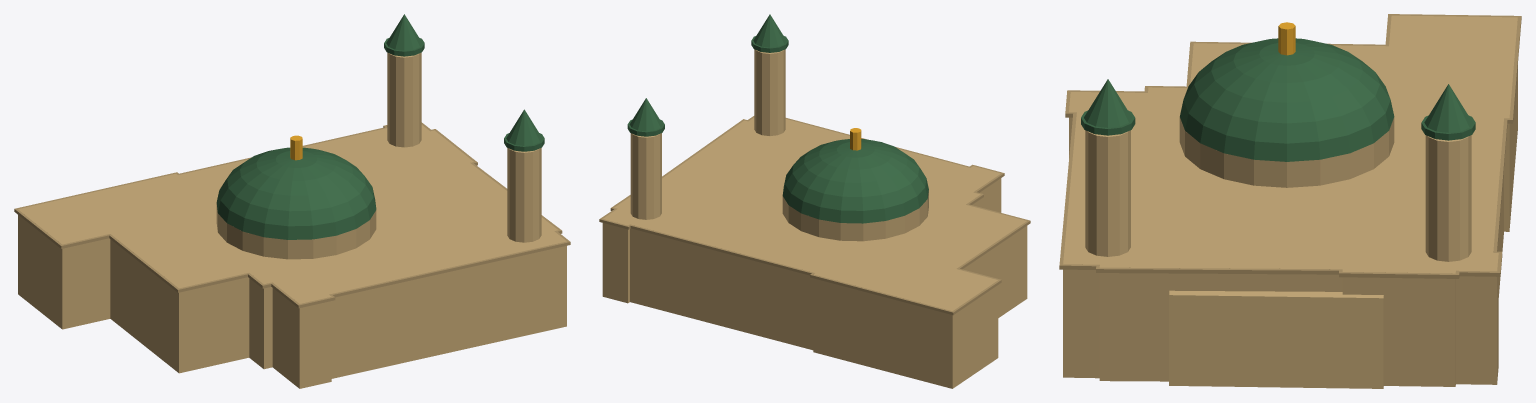
The model's file is altria-theater.glb.
3 views of the same model, side by side, from view 1: azimuth 30°, elevation 25°; view 2: azimuth 150°, elevation 25°; view 3: azimuth 270°, elevation 25° (orthographic). The views are drawn at different scales.
Visible parts, largest first — view 1: body, altria-theater_3, altria-theater_1, altria-theater_2, altria-theater_8, altria-theater_5, altria-theater_7, altria-theater_10; view 2: body, altria-theater_3, altria-theater_1, altria-theater_2, altria-theater_8, altria-theater_5, altria-theater_7, altria-theater_10; view 3: body, altria-theater_11, altria-theater_3, altria-theater_1, altria-theater_2, altria-theater_8, altria-theater_5, altria-theater_10, altria-theater_7, altria-theater_4, altria-theater_9, altria-theater_6.
Part boxes in pixels (bbox=[...]): body: bbox=[18, 125, 566, 388]; altria-theater_3: bbox=[216, 147, 376, 239]; altria-theater_1: bbox=[14, 122, 570, 308]; altria-theater_2: bbox=[216, 205, 376, 259]; altria-theater_8: bbox=[387, 52, 421, 147]; altria-theater_5: bbox=[507, 148, 541, 242]; altria-theater_7: bbox=[506, 109, 542, 145]; altria-theater_10: bbox=[386, 14, 422, 50]; body: bbox=[602, 118, 1027, 388]; altria-theater_3: bbox=[782, 139, 928, 223]; altria-theater_1: bbox=[599, 116, 1030, 315]; altria-theater_2: bbox=[782, 190, 928, 241]; altria-theater_8: bbox=[630, 133, 661, 219]; altria-theater_5: bbox=[754, 49, 785, 135]; altria-theater_7: bbox=[753, 14, 786, 47]; altria-theater_10: bbox=[629, 98, 662, 131]; body: bbox=[1063, 15, 1517, 386]; altria-theater_11: bbox=[1169, 290, 1383, 388]; altria-theater_3: bbox=[1180, 38, 1394, 161]; altria-theater_1: bbox=[1059, 14, 1521, 278]; altria-theater_2: bbox=[1179, 117, 1394, 187]; altria-theater_8: bbox=[1425, 135, 1471, 261]; altria-theater_5: bbox=[1085, 130, 1130, 256]; altria-theater_10: bbox=[1424, 84, 1472, 132]; altria-theater_7: bbox=[1084, 79, 1132, 127]; altria-theater_4: bbox=[1278, 22, 1295, 55]; altria-theater_9: bbox=[1421, 115, 1475, 140]; altria-theater_6: bbox=[1081, 110, 1135, 135].
Size of the model in its own units: 86.51 by 43.5 by 64.59.
